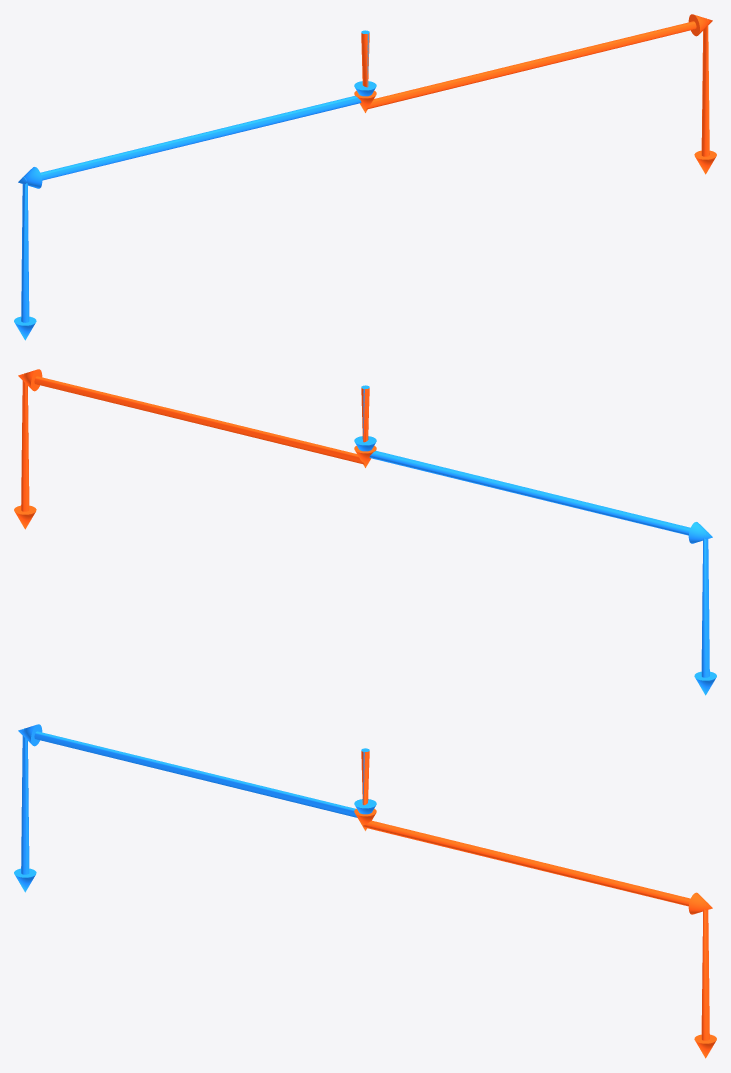
File: shuttle_conveyor_flow.glb
3 renders of one model, top to bottom at view 1: azimuth 30°, elevation 25°; view 2: azimuth 150°, elevation 25°; view 3: azimuth 330°, elevation 25°, orthographic.
Parts seen in each view (by area): view 1: to_right_bins, to_left_bins; view 2: to_right_bins, to_left_bins; view 3: to_right_bins, to_left_bins.
Boxes of the visible parts, bbox=[...] form: to_right_bins: bbox=[354, 14, 716, 174]; to_left_bins: bbox=[14, 30, 376, 340]; to_right_bins: bbox=[14, 369, 376, 529]; to_left_bins: bbox=[354, 385, 716, 695]; to_right_bins: bbox=[354, 751, 716, 1058]; to_left_bins: bbox=[14, 724, 376, 892].
Bounding box in the file's own units: 3.7 × 1.14 × 0.104.
